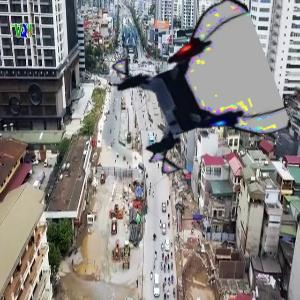drone: (117, 14, 275, 172)
